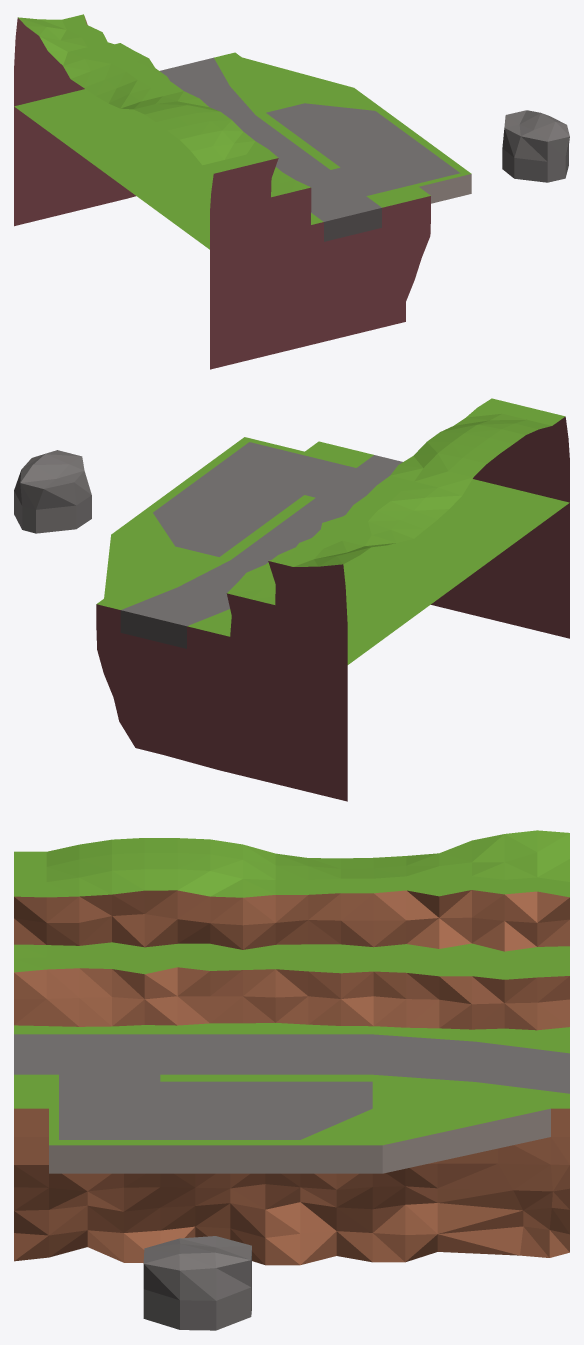
The model's file is environment.obj.
3 views of the same model, one above another, from view 1: azimuth 30°, elevation 25°; view 2: azimuth 150°, elevation 25°; view 3: azimuth 270°, elevation 25° (orthographic). The views are drawn at different scales.
Parts seen in each view (by area): view 1: Cube.019_Cube.003; view 2: Cube.019_Cube.003; view 3: Cube.019_Cube.003.
Part boxes in pixels (x1,y1,x2,y2): Cube.019_Cube.003: (14,14,569,369); Cube.019_Cube.003: (14,398,569,801); Cube.019_Cube.003: (14,830,569,1330).
Bounding box in the file's own units: 53.64 × 25.46 × 43.39.
